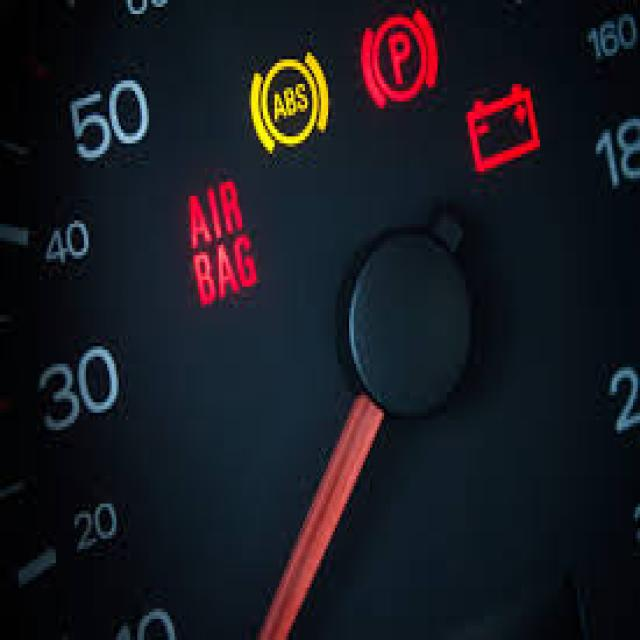kontrolka: (243, 42, 333, 160), (354, 2, 444, 118), (462, 77, 545, 182)
